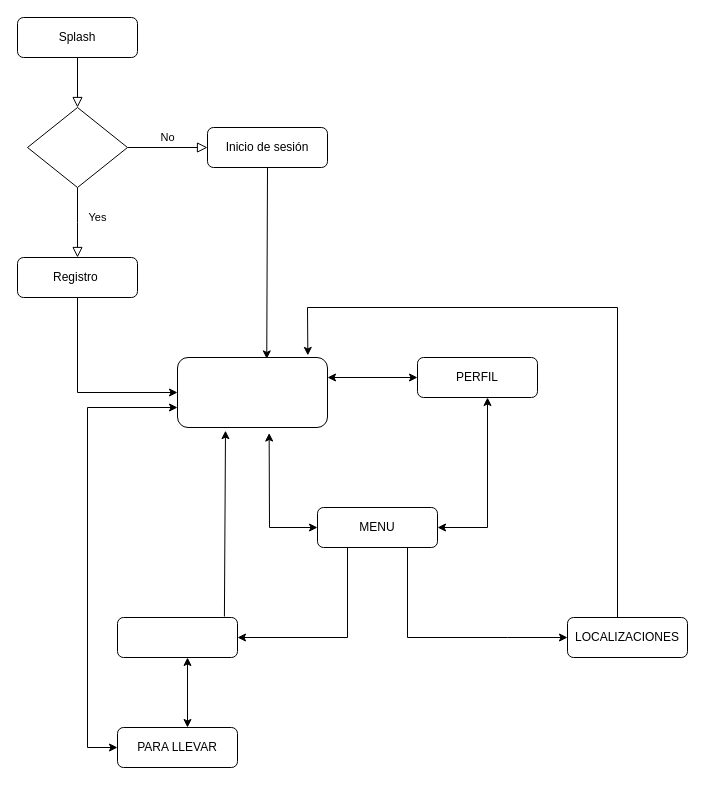
This 705x785 diagram has some shape labels left out. Here are the shapes that lost their labels. From the top down, the box of each, then its label:
(26, 106, 128, 188): Primera vez
(176, 356, 328, 428): HOME
(116, 616, 238, 658): COMEDOR
